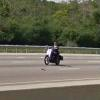Motorcycle: (34, 42, 75, 70)
